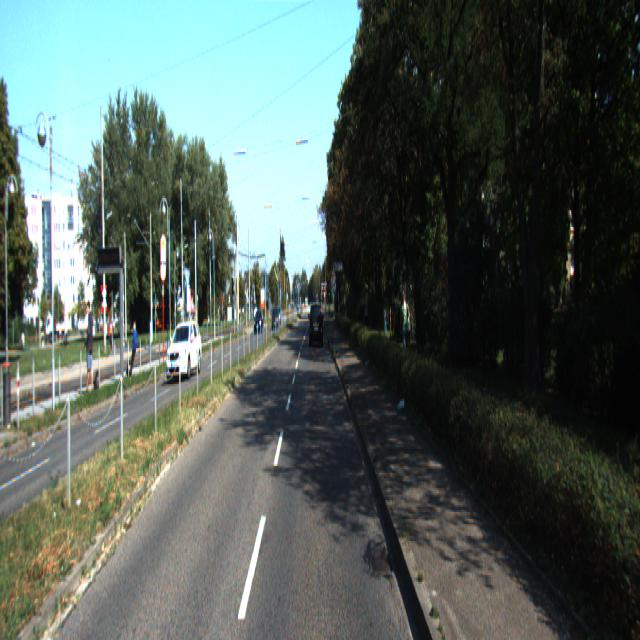Car: (166, 320, 203, 383), (310, 302, 324, 348)
